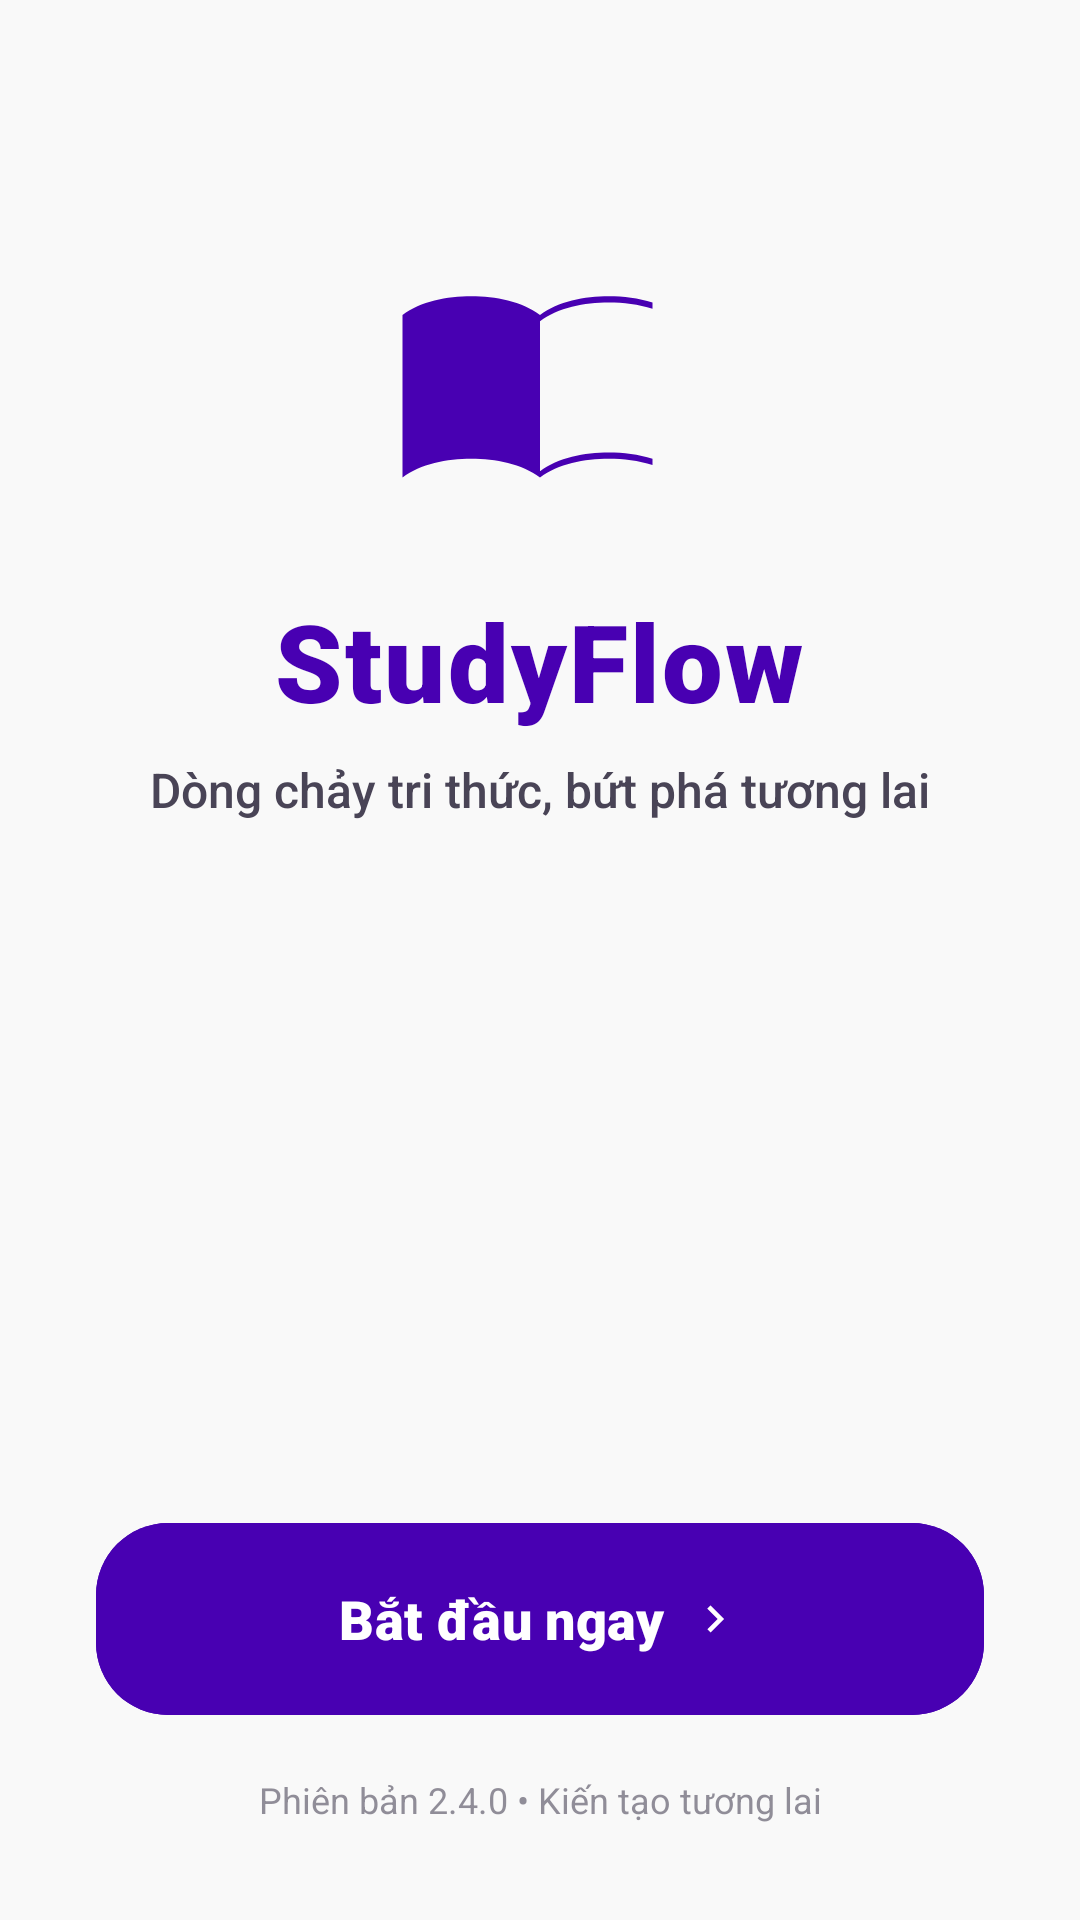

Where to tap for icons on this 1080 x 1920 app screen, as (x,y):
book: (527,387)
